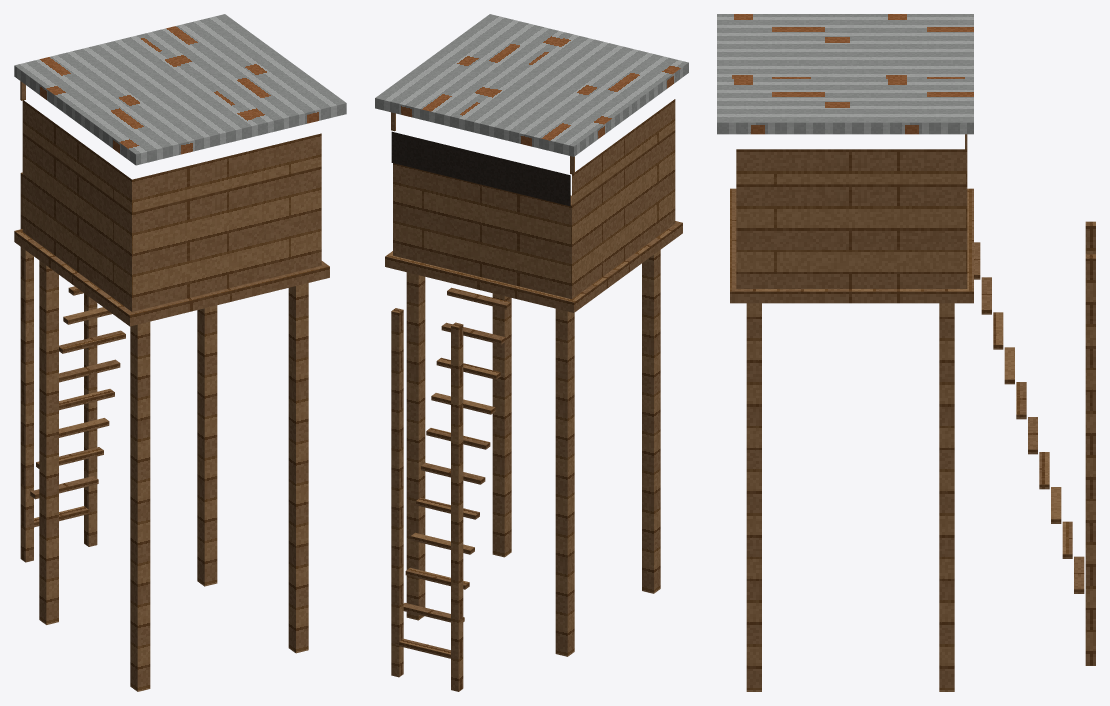
Rendered from deer_stand.glb.
The picture shows the model from 3 angles, left to right: view 1: azimuth 30°, elevation 25°; view 2: azimuth 150°, elevation 25°; view 3: azimuth 270°, elevation 25°; orthographic projection. The views are drawn at different scales.
Parts seen in each view (by area): view 1: deer_stand; view 2: deer_stand; view 3: deer_stand.
Boxes of the visible parts, left/top/right/bottom form: deer_stand: left=14, top=14, right=346, bottom=691; deer_stand: left=375, top=14, right=688, bottom=691; deer_stand: left=717, top=14, right=1095, bottom=691.
Size of the model in its own units: 2 by 5 by 2.95.
3 materials, 3 textured.
